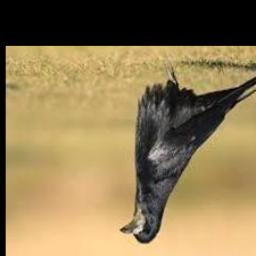Crow: (119, 62, 256, 245)
